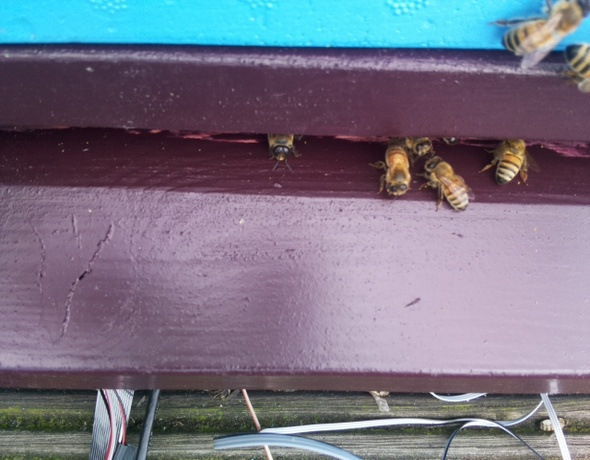no_pollen: (499, 1, 590, 57), (419, 155, 473, 215), (489, 135, 531, 188), (379, 142, 415, 198), (262, 124, 303, 168), (562, 42, 590, 82), (401, 131, 437, 159)
